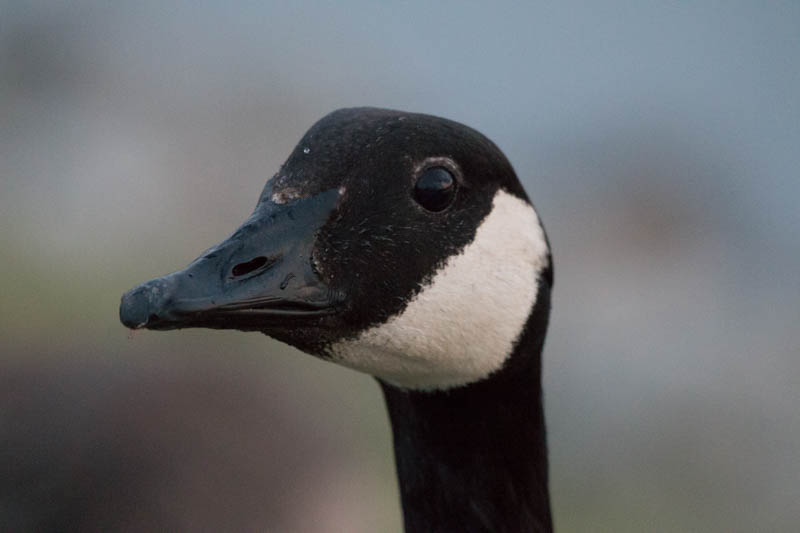goose-head: (120, 107, 554, 393)
